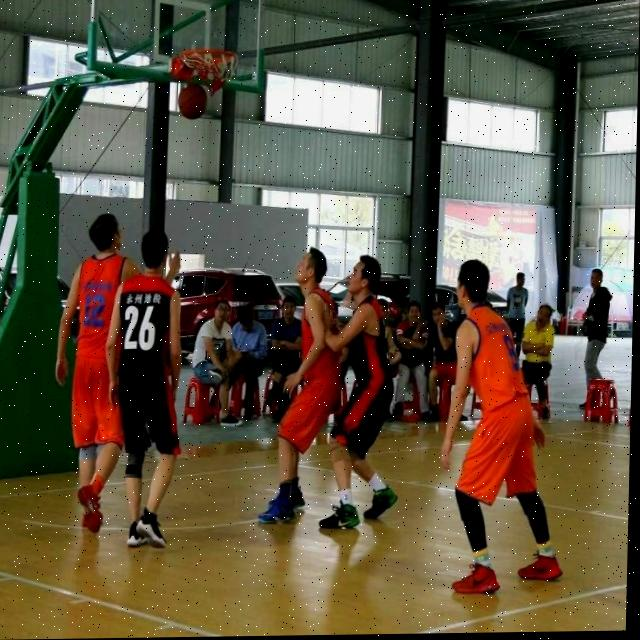basketball: (177, 81, 208, 121)
hoop: (179, 46, 239, 99)
